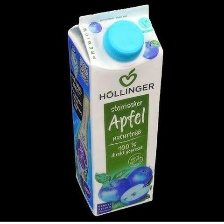carton: (62, 2, 172, 219)
